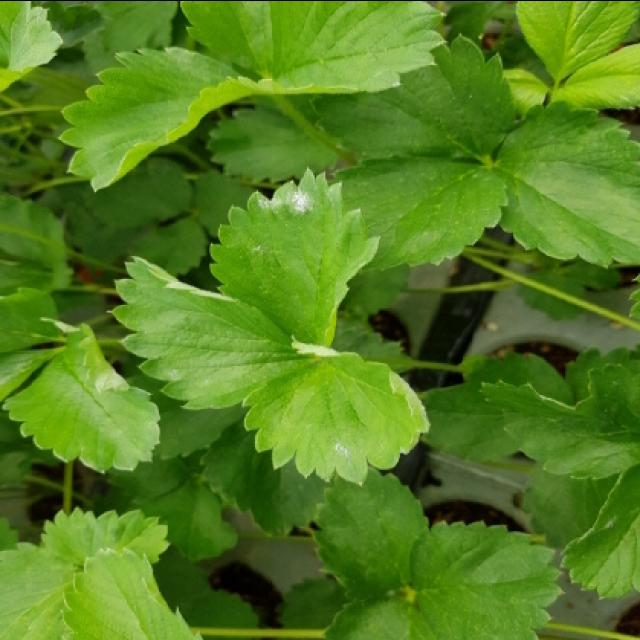Powdery Mildew Leaf: (206, 165, 382, 347), (106, 253, 303, 411), (239, 332, 431, 486), (2, 315, 161, 476)
